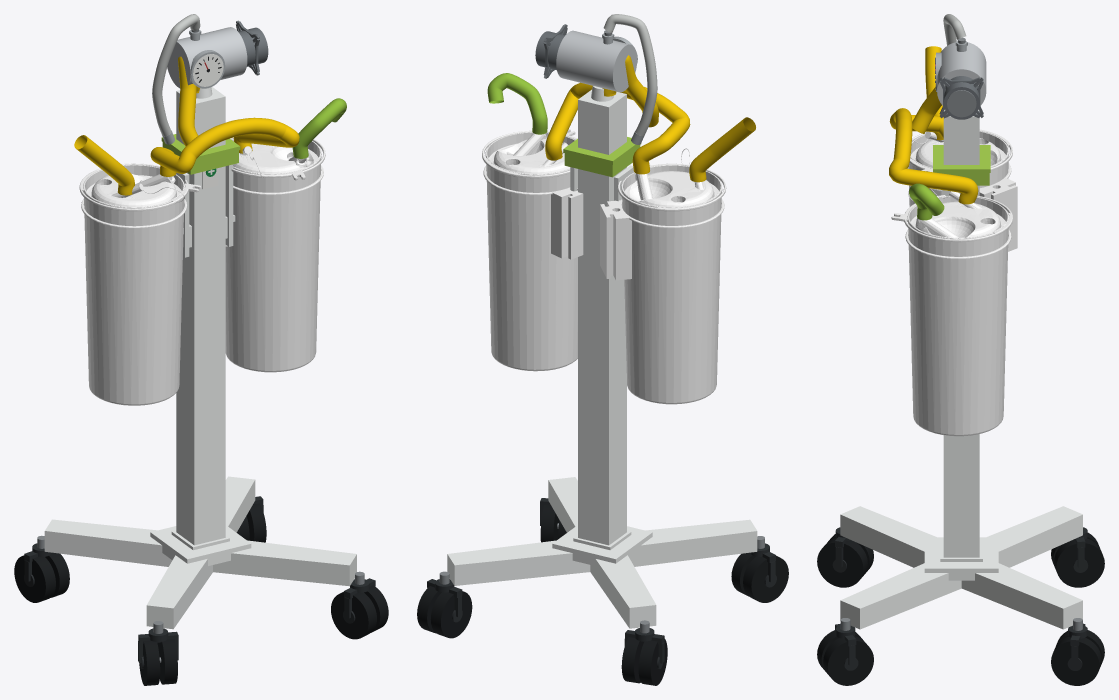
The model's file is p14-suction-stand.glb.
3 renders of one model, left to right at view 1: azimuth 30°, elevation 25°; view 2: azimuth 150°, elevation 25°; view 3: azimuth 270°, elevation 25°, orthographic.
Parts seen in each view (by area): view 1: vessel (×2), post, arm (×4), wheel (×6), lid (×2), lines_arch, body, hub, lines_supply, lines_patient, lines_reg, lines_overflow (+5 smaller); view 2: vessel (×2), post, arm (×4), lid (×2), wheel (×6), collar-mount (×2), body, lines_arch, hub, lines_supply, lines_overflow, lines_patient (+4 smaller); view 3: vessel (×2), arm (×4), wheel (×4), post, lid (×2), lines_arch, hub, body, collar-mount (×2), collar-lip, lines_overflow, lines_reg (+4 smaller).
Part boxes in pixels (x1=…): vessel (×2): x1=83, y1=139, x2=321, y2=405; post: x1=176, y1=87, x2=225, y2=545; arm (×4): x1=44, y1=476, x2=356, y2=629; wheel (×6): x1=14, y1=503, x2=376, y2=685; lid (×2): x1=79, y1=137, x2=325, y2=211; lines_arch: x1=150, y1=117, x2=299, y2=176; body: x1=167, y1=27, x2=247, y2=88; hub: x1=150, y1=525, x2=251, y2=565; lines_supply: x1=152, y1=14, x2=200, y2=136; lines_patient: x1=74, y1=135, x2=134, y2=195; lines_reg: x1=178, y1=56, x2=199, y2=146; lines_overflow: x1=292, y1=98, x2=346, y2=158; vessel (×2): x1=486, y1=132, x2=721, y2=404; post: x1=578, y1=89, x2=626, y2=545; arm (×4): x1=447, y1=477, x2=757, y2=628; lid (×2): x1=482, y1=129, x2=726, y2=211; wheel (×6): x1=417, y1=505, x2=788, y2=685; collar-mount (×2): x1=483, y1=166, x2=724, y2=280; body: x1=556, y1=30, x2=637, y2=92; lines_arch: x1=545, y1=82, x2=690, y2=174; hub: x1=552, y1=525, x2=652, y2=565; lines_supply: x1=603, y1=14, x2=657, y2=135; lines_overflow: x1=487, y1=73, x2=547, y2=134; lines_patient: x1=689, y1=117, x2=755, y2=182; vessel (×2): x1=908, y1=131, x2=1008, y2=436; arm (×4): x1=840, y1=506, x2=1082, y2=629; wheel (×4): x1=817, y1=538, x2=1104, y2=685; post: x1=943, y1=109, x2=979, y2=557; lid (×2): x1=891, y1=129, x2=1012, y2=242; lines_arch: x1=889, y1=108, x2=978, y2=204; hub: x1=924, y1=537, x2=998, y2=580; body: x1=937, y1=42, x2=986, y2=105; collar-mount (×2): x1=905, y1=163, x2=1017, y2=259; collar-lip: x1=933, y1=145, x2=990, y2=172; lines_overflow: x1=909, y1=183, x2=944, y2=220; lines_reg: x1=912, y1=87, x2=941, y2=133.
Size of the model in its own units: 377 by 812 by 350.
